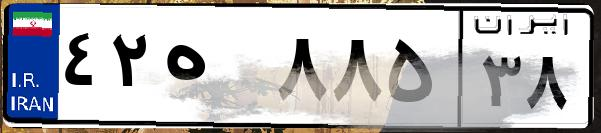2: (110, 28, 158, 98)
3: (475, 38, 525, 113)
4: (57, 26, 110, 100)
5: (385, 28, 445, 110)
8: (270, 28, 330, 110), (330, 28, 385, 110), (525, 38, 570, 115)
ه: (158, 20, 270, 120)
